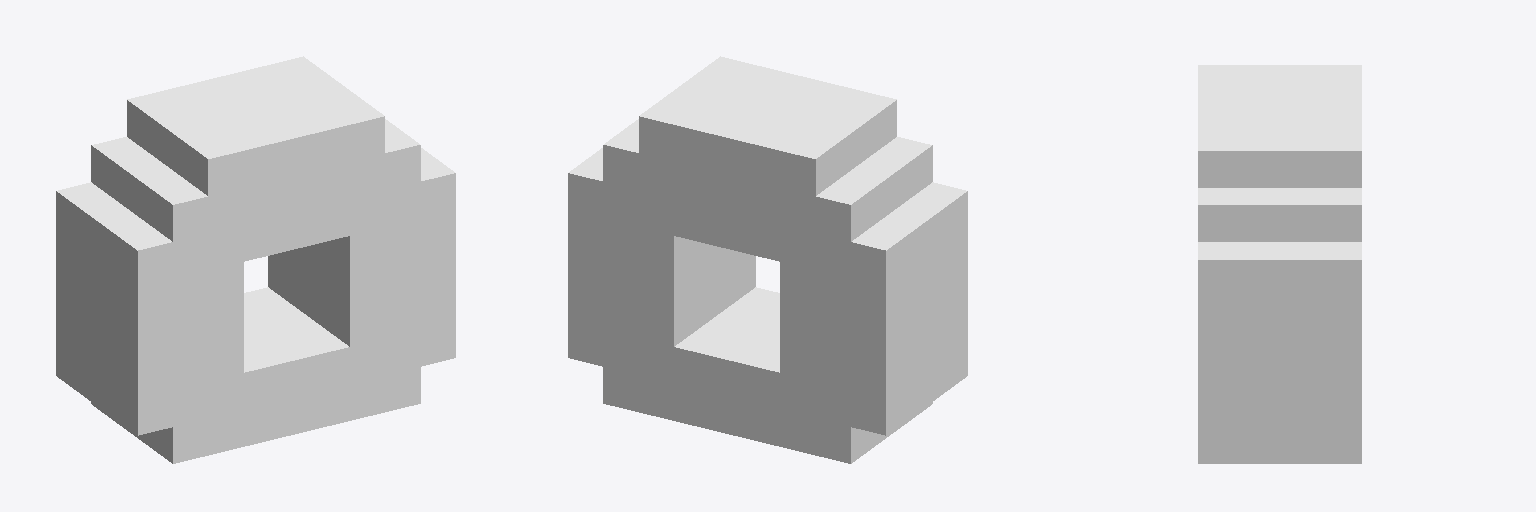
File: donut.obj
3 views of the same model, side by side, from view 1: azimuth 30°, elevation 25°; view 2: azimuth 150°, elevation 25°; view 3: azimuth 270°, elevation 25° (orthographic).
Parts seen in each view (by area): view 1: donut; view 2: donut; view 3: donut.
Part boxes in pixels (left/top/right/bottom): donut: left=56, top=56, right=455, bottom=463; donut: left=568, top=56, right=967, bottom=463; donut: left=1198, top=65, right=1361, bottom=463.
Bounding box in the file's own units: 9 × 8 × 4.